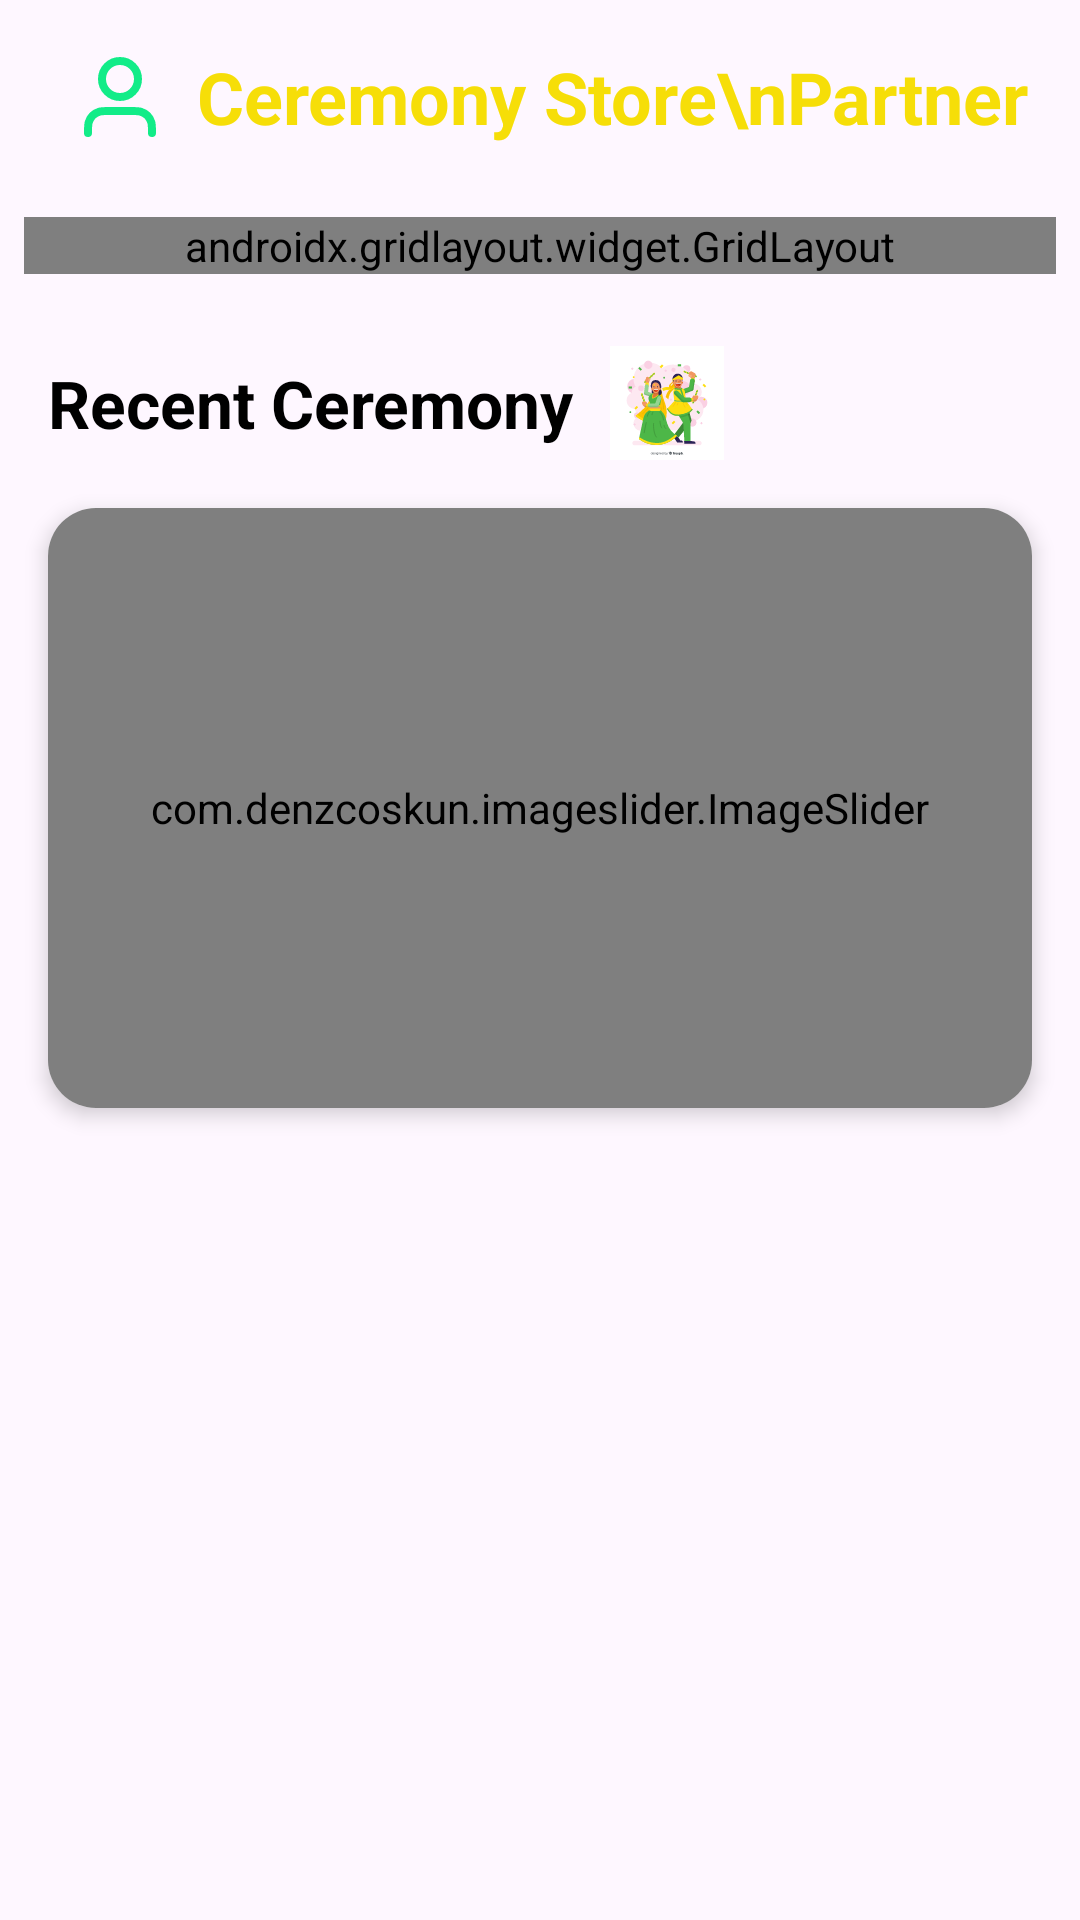

Locate icon controls on the screen. Image size 1080 x 1920, boxes as (x1, y1, x2, y2).
user: (84, 57, 156, 137)
